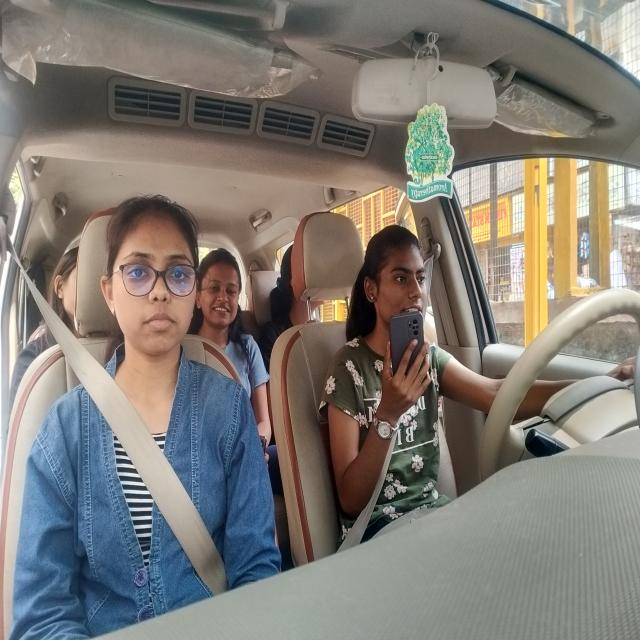mobile: (391, 310, 427, 385)
person: (106, 198, 194, 348), (366, 240, 432, 317), (201, 246, 245, 336), (281, 244, 331, 317), (53, 240, 79, 335)
